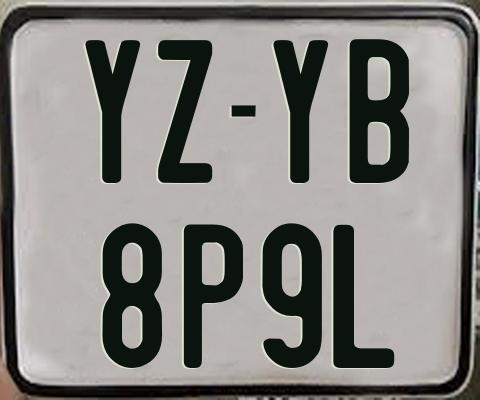8: (101, 222, 162, 371)
9: (261, 221, 325, 369)
B: (348, 38, 408, 188)
L: (330, 223, 397, 370)
P: (183, 224, 242, 371)
Y: (270, 40, 331, 183), (85, 40, 142, 186)
Z: (155, 38, 210, 182)
